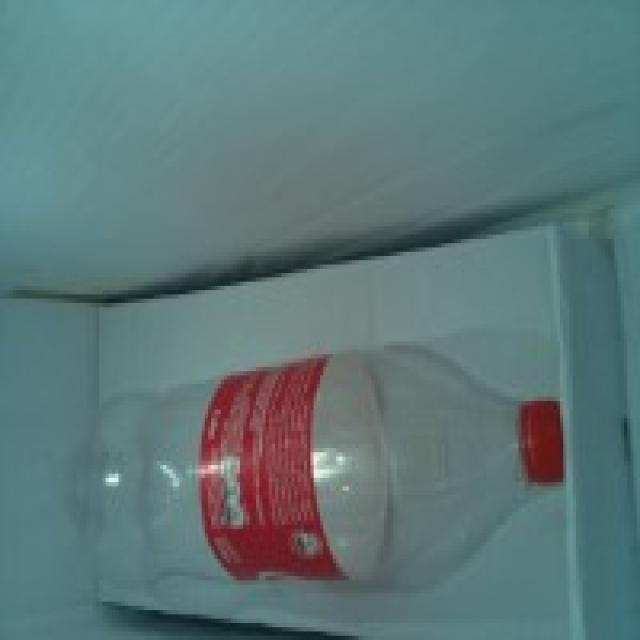Anorganik: (70, 350, 576, 601)
